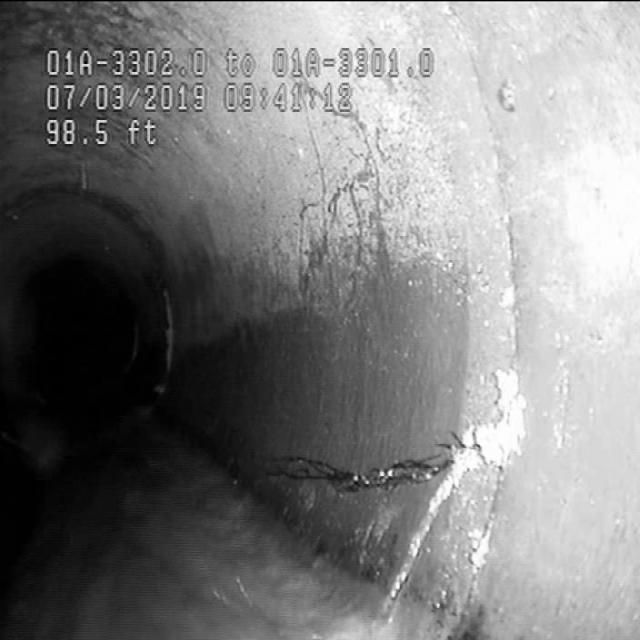Fracture: (260, 408, 482, 510)
